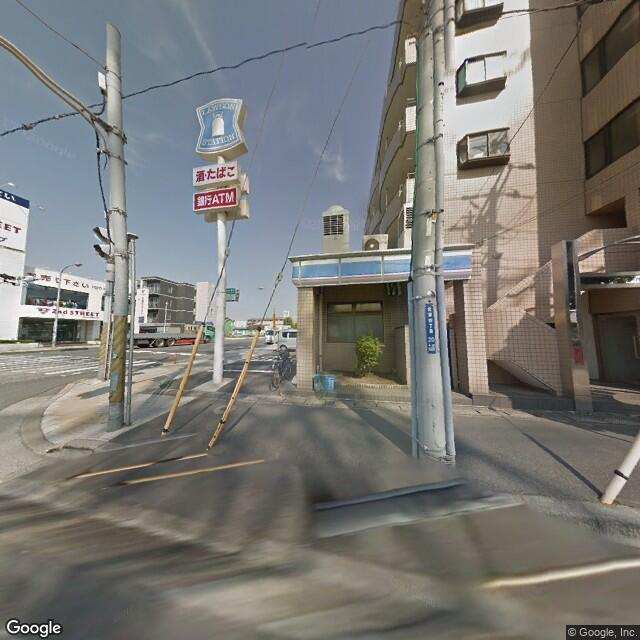lawson: (282, 244, 476, 286), (189, 96, 247, 156)
